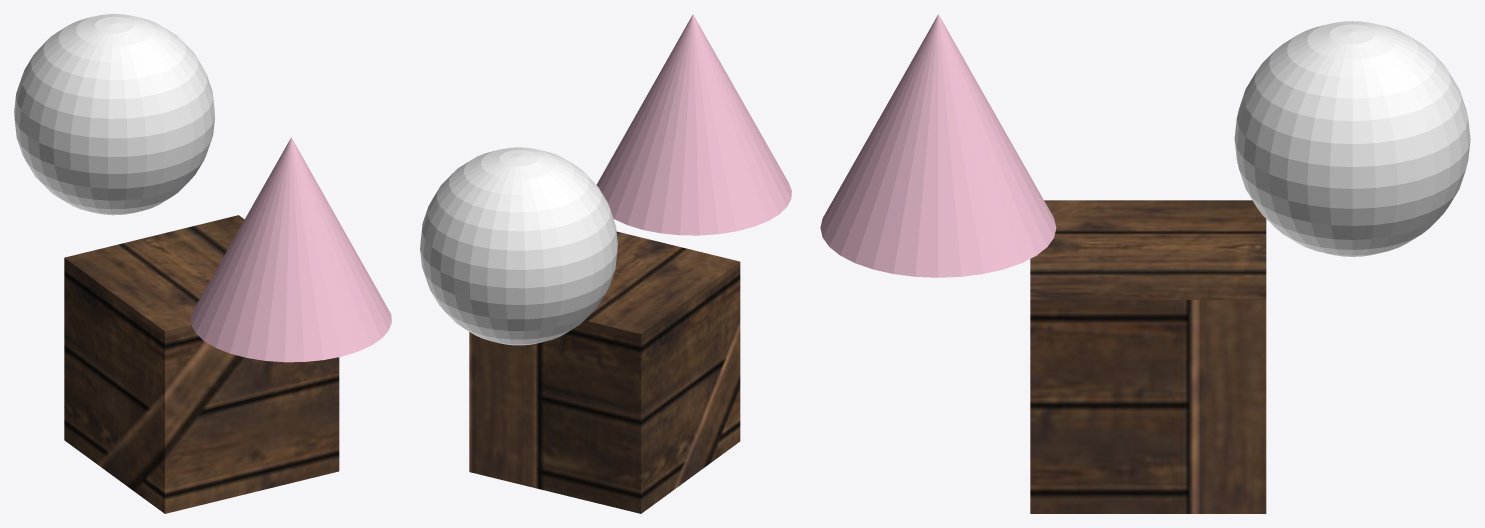
File: Multi.obj
3 renders of one model, left to right at view 1: azimuth 30°, elevation 25°; view 2: azimuth 150°, elevation 25°; view 3: azimuth 270°, elevation 25°, orthographic. The views are drawn at different scales.
Parts seen in each view (by area): view 1: Cube; view 2: Cube; view 3: Cube.
Boxes of the visible parts, x1=… form: Cube: x1=14, y1=14, x2=391, y2=513; Cube: x1=420, y1=14, x2=791, y2=513; Cube: x1=820, y1=14, x2=1470, y2=513.
Bounding box in the file's own units: 2 × 4.21 × 5.51.
3 materials, 3 textured.
